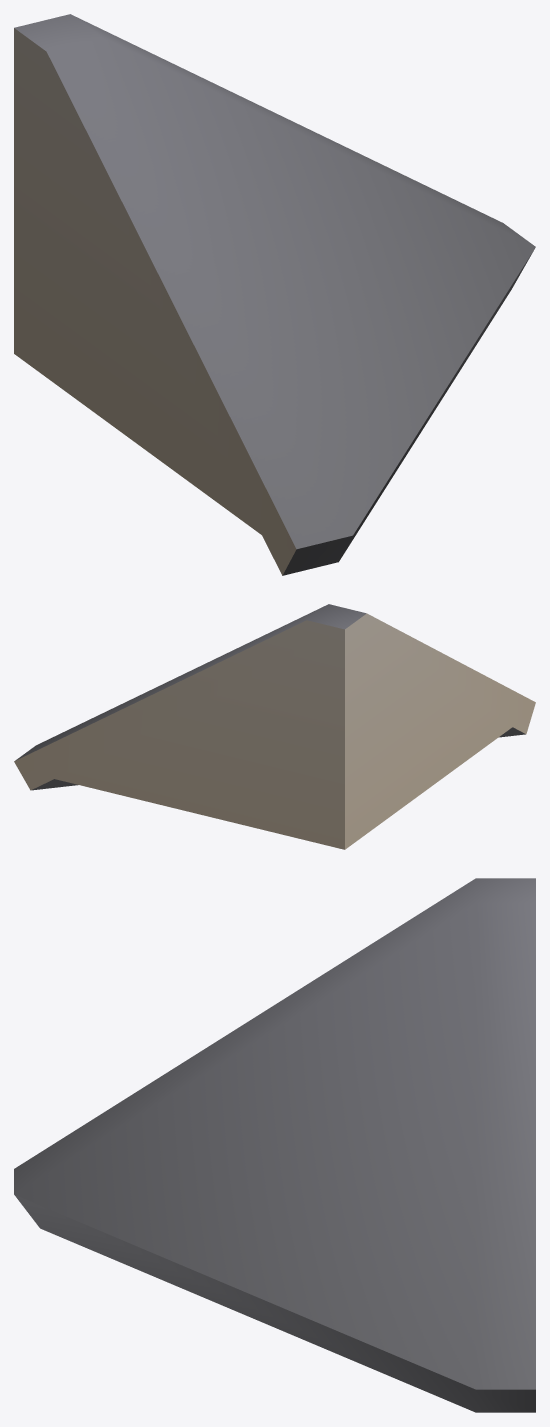
Rendered from roof-slanted-corner-b.glb.
3 views of the same model, one above another, from view 1: azimuth 30°, elevation 25°; view 2: azimuth 150°, elevation 25°; view 3: azimuth 270°, elevation 25° (orthographic). The views are drawn at different scales.
Parts seen in each view (by area): view 1: roof-slanted-corner-b; view 2: roof-slanted-corner-b; view 3: roof-slanted-corner-b.
Boxes of the visible parts, x1,y1,x2,y2 form: roof-slanted-corner-b: [14, 14, 535, 575]; roof-slanted-corner-b: [14, 604, 535, 849]; roof-slanted-corner-b: [14, 878, 535, 1412].
Bounding box in the file's own units: 1.14 × 0.782 × 1.14.
